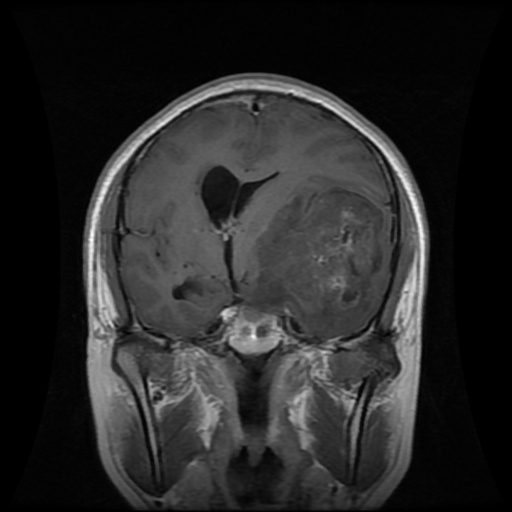glioma: (243, 186, 383, 340)
